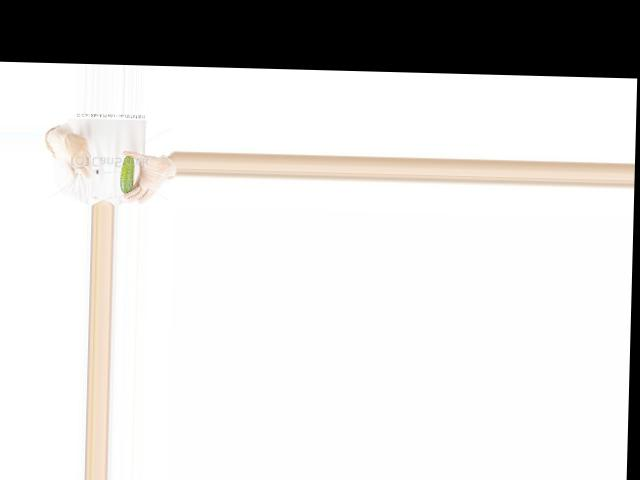cucumber: (121, 154, 135, 193)
